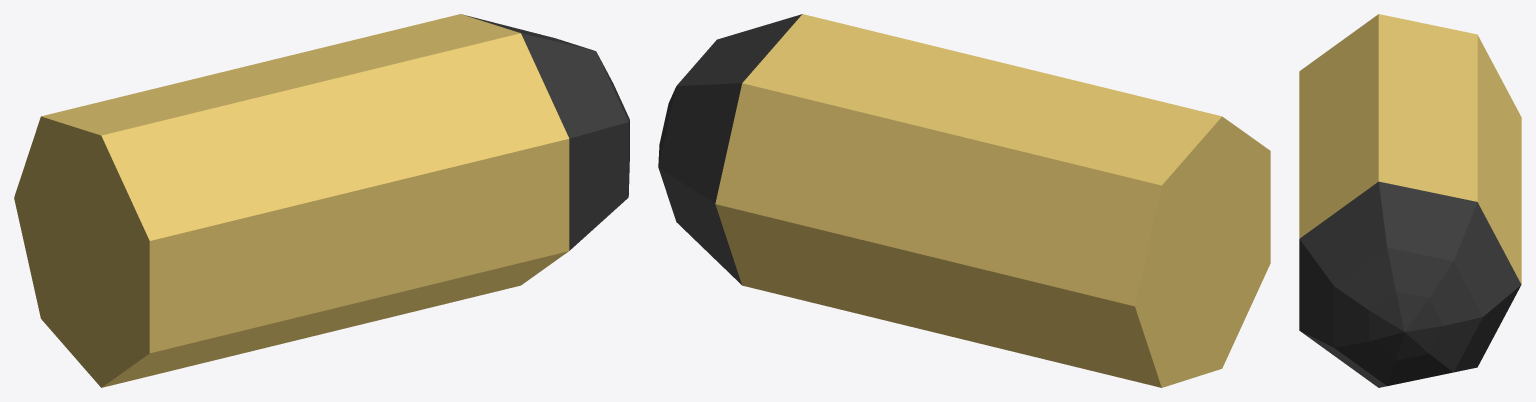
File: bullet1.fbx
The picture shows the model from 3 angles, left to right: view 1: azimuth 30°, elevation 25°; view 2: azimuth 150°, elevation 25°; view 3: azimuth 270°, elevation 25°; orthographic projection. The views are drawn at different scales.
Visible parts, largest first — view 1: Sphere; view 2: Sphere; view 3: Sphere.
Part boxes in pixels (left/top/right/bottom): Sphere: left=14, top=14, right=629, bottom=387; Sphere: left=658, top=14, right=1270, bottom=387; Sphere: left=1299, top=14, right=1521, bottom=387.
Size of the model in its own units: 15.69 by 7.03 by 6.86.
